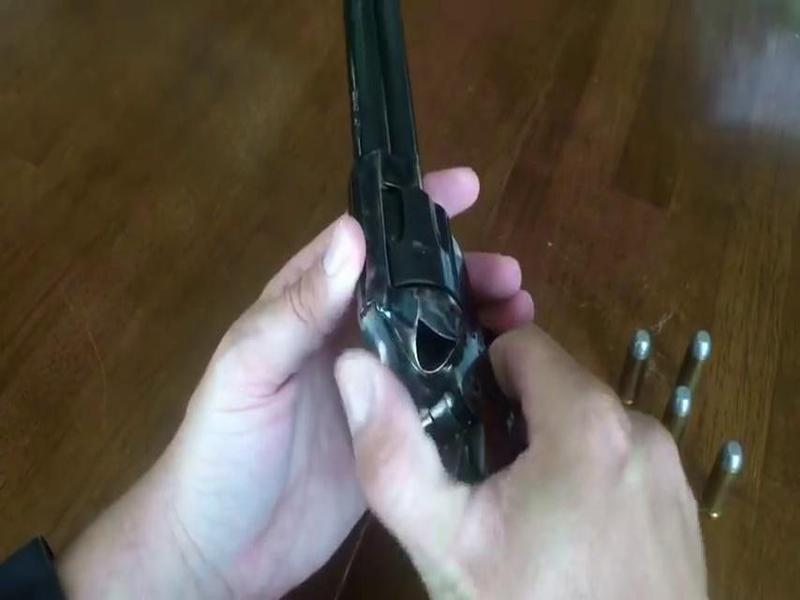Revolver: (317, 1, 566, 526)
